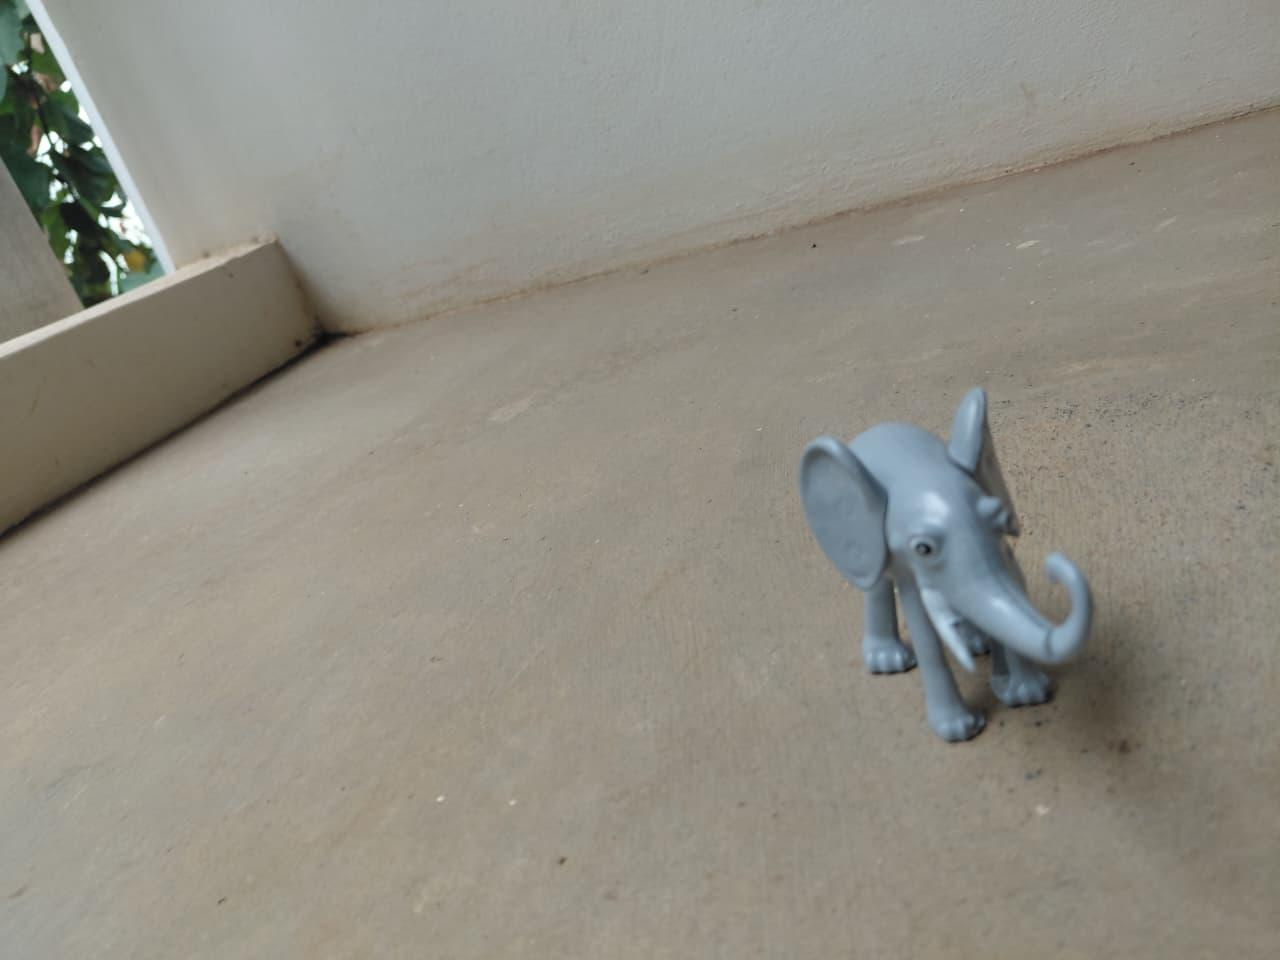elephant: (792, 396, 1123, 740)
